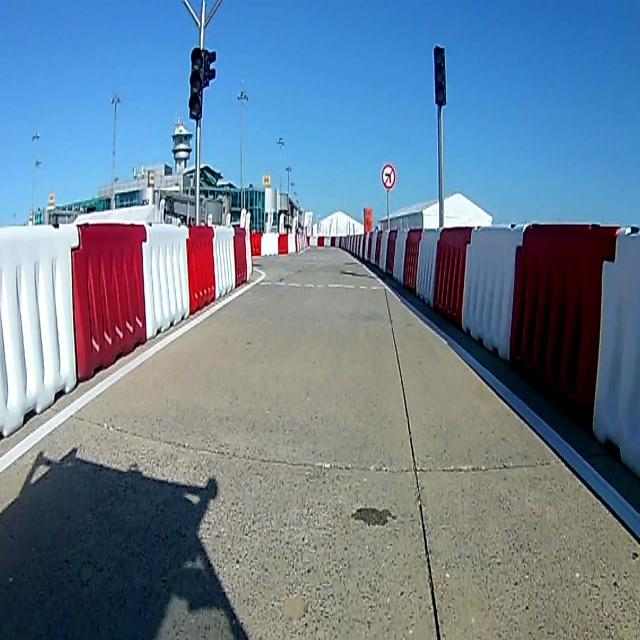soladonulmez: (381, 163, 396, 190)
